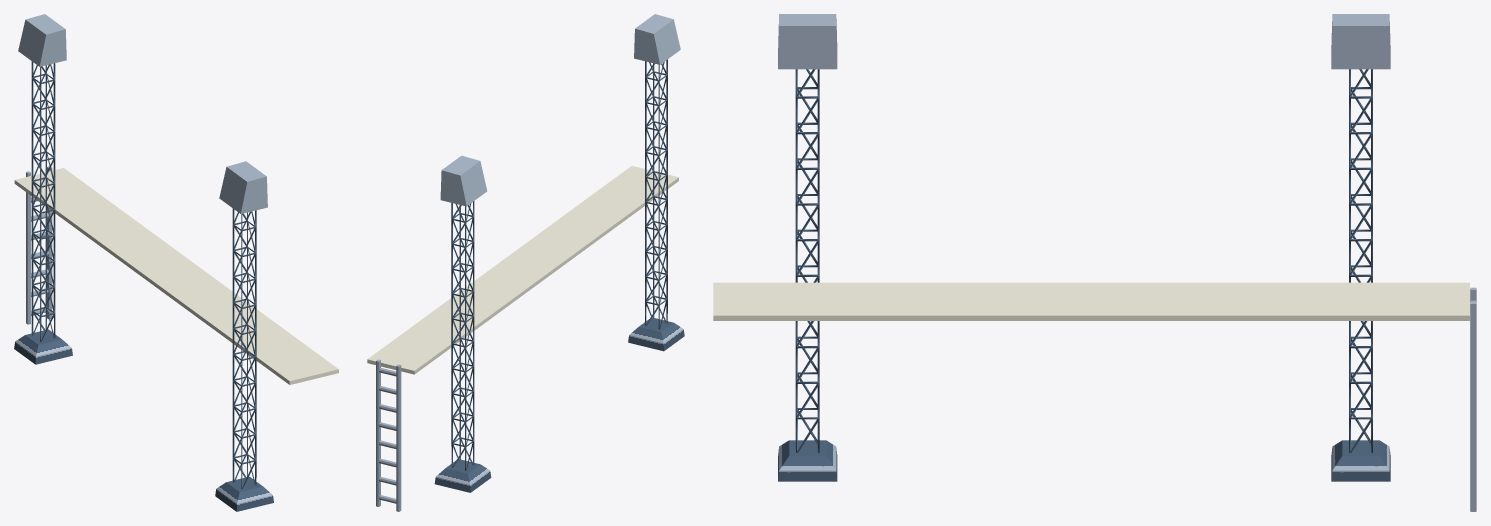
Rendered from Cartel_Doble.fbx.
3 views of the same model, side by side, from view 1: azimuth 30°, elevation 25°; view 2: azimuth 150°, elevation 25°; view 3: azimuth 270°, elevation 25° (orthographic). The views are drawn at different scales.
Visible parts, largest first — view 1: Cartel_Doble; view 2: Cartel_Doble; view 3: Cartel_Doble.
Part boxes in pixels (x1,y1,x2,y2): Cartel_Doble: [14, 14, 338, 511]; Cartel_Doble: [367, 14, 684, 511]; Cartel_Doble: [713, 14, 1476, 511].
Bounding box in the file's own units: 395 × 1609 × 2415.
